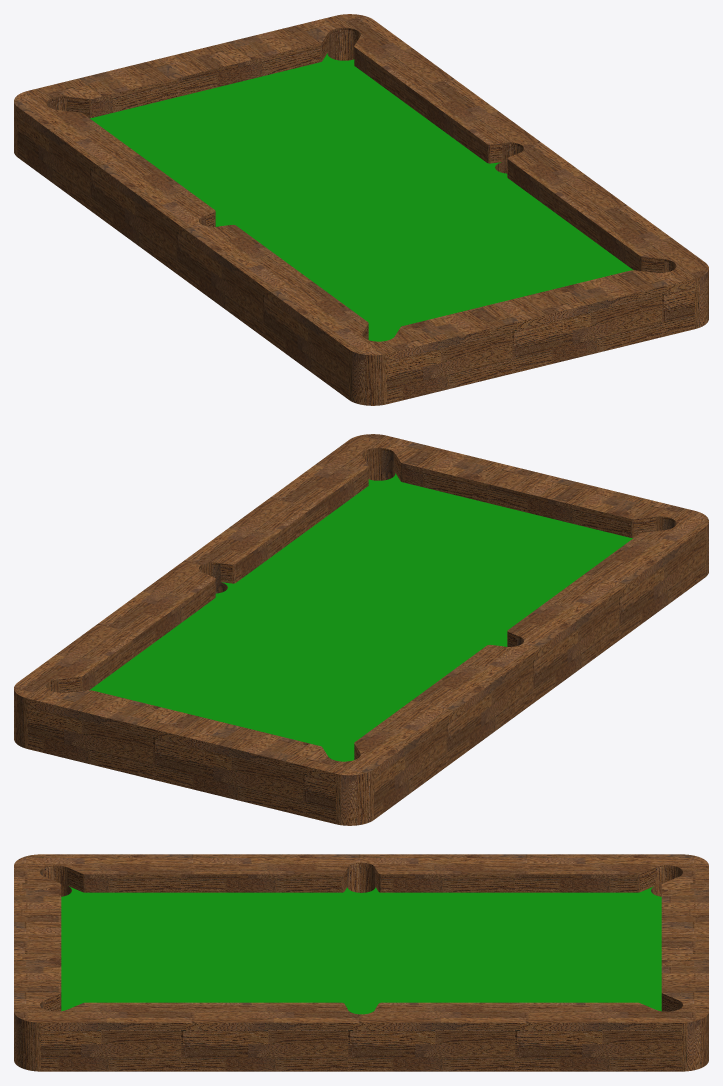
File: PoolTable.obj
3 views of the same model, one above another, from view 1: azimuth 30°, elevation 25°; view 2: azimuth 150°, elevation 25°; view 3: azimuth 270°, elevation 25° (orthographic). The views are drawn at different scales.
Visible parts, largest first — view 1: Solid1; view 2: Solid1; view 3: Solid1.
Boxes of the visible parts, x1,y1,x2,y2 form: Solid1: (14,14,708,405); Solid1: (14,434,708,825); Solid1: (14,854,708,1071).
Size of the model in its own units: 59 by 8 by 103.
